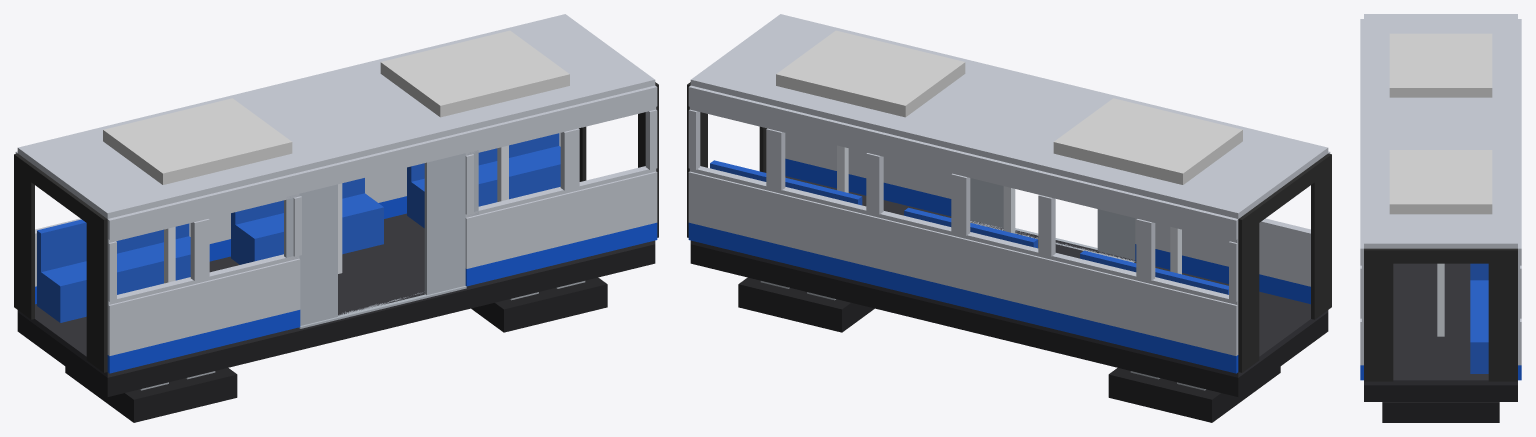
The model's file is metro_wagon_half_l1.obj.
3 renders of one model, left to right at view 1: azimuth 30°, elevation 25°; view 2: azimuth 150°, elevation 25°; view 3: azimuth 270°, elevation 25°, orthographic. The views are drawn at different scales.
Size of the model in its own units: 3 by 1.26 by 0.88.
